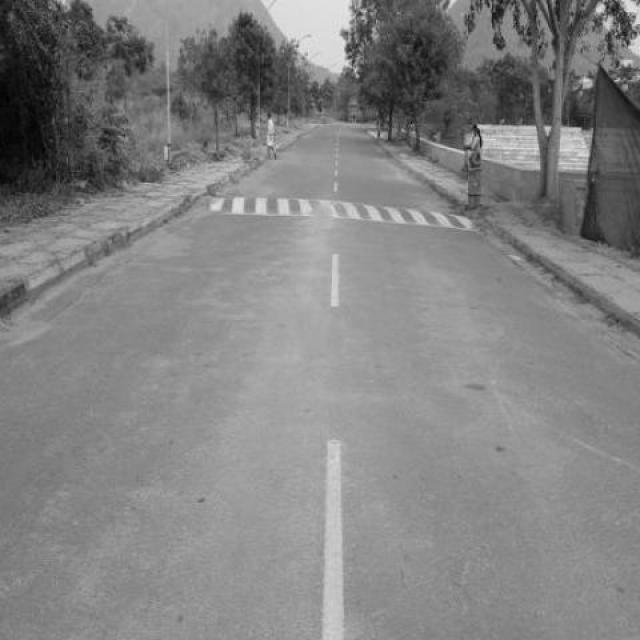Pothole: (599, 313, 628, 332), (562, 290, 592, 306), (465, 381, 486, 392), (494, 446, 506, 452)
Speed Bump: (206, 190, 476, 229)
